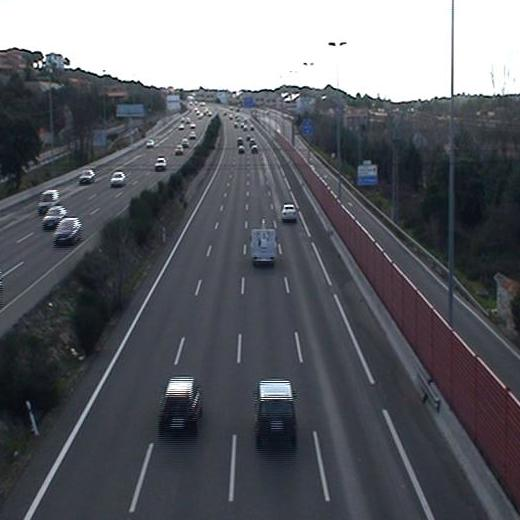car: (254, 380, 294, 440), (159, 379, 200, 437), (281, 203, 296, 222)
small-truck: (249, 221, 278, 268)
